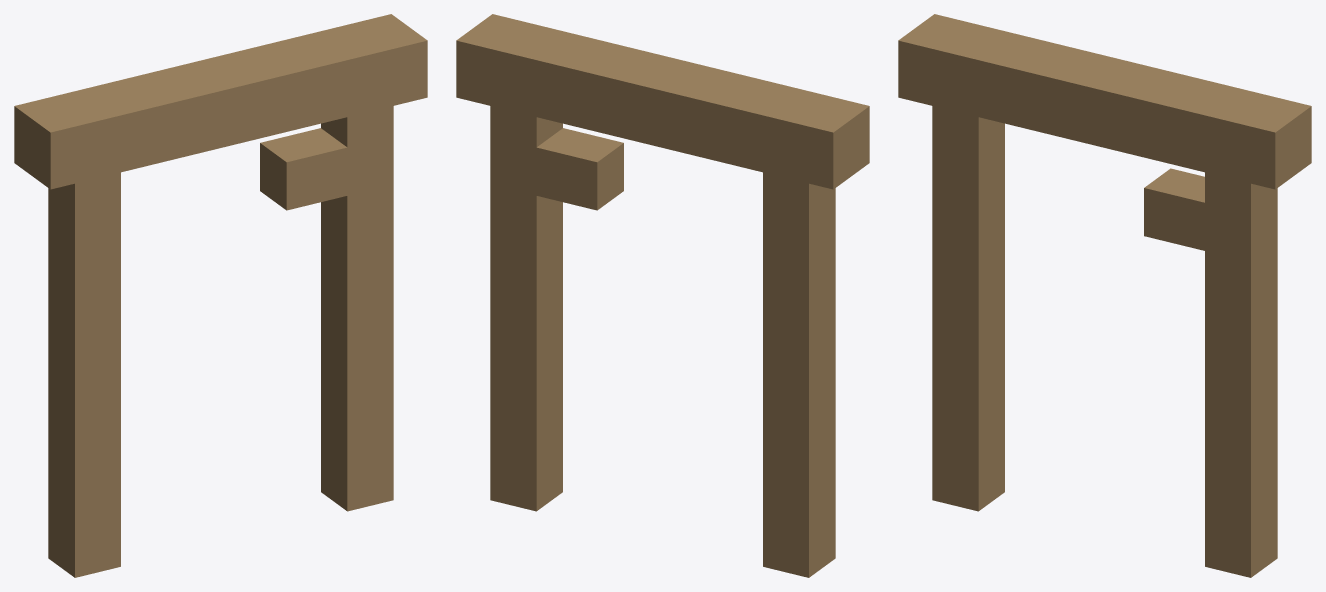
Rendered from support.glb.
The picture shows the model from 3 angles, left to right: view 1: azimuth 30°, elevation 25°; view 2: azimuth 150°, elevation 25°; view 3: azimuth 330°, elevation 25°; orthographic projection.
Parts seen in each view (by area): view 1: Cube.002, Cube, Cube.001, Cube.003; view 2: Cube.002, Cube, Cube.001, Cube.003; view 3: Cube.002, Cube, Cube.001, Cube.003.
Part boxes in pixels (left/top/right/bottom): Cube.002: left=14, top=14, right=427, bottom=189; Cube: left=48, top=172, right=120, bottom=577; Cube.001: left=321, top=106, right=393, bottom=511; Cube.003: left=260, top=128, right=391, bottom=210; Cube.002: left=456, top=14, right=869, bottom=189; Cube: left=763, top=172, right=835, bottom=577; Cube.001: left=490, top=106, right=562, bottom=511; Cube.003: left=492, top=128, right=623, bottom=210; Cube.002: left=898, top=14, right=1311, bottom=189; Cube: left=932, top=106, right=1004, bottom=511; Cube.001: left=1205, top=172, right=1277, bottom=577; Cube.003: left=1144, top=168, right=1246, bottom=250.
Size of the model in its own units: 1.8 by 2.08 by 0.3.
